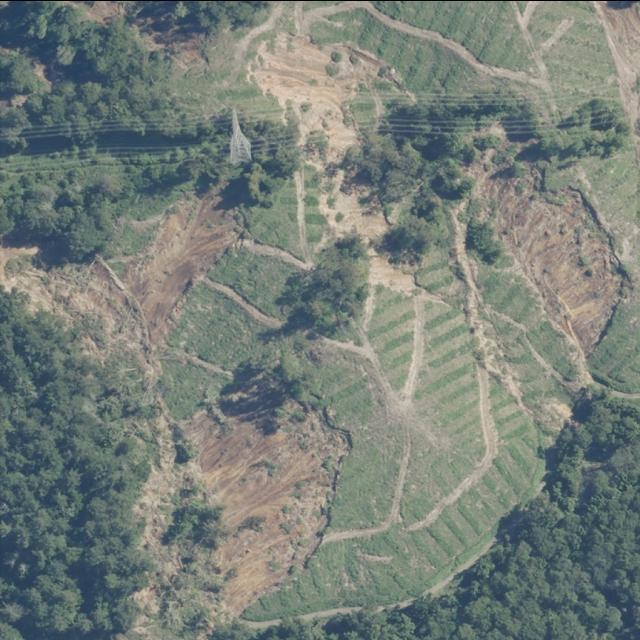landslide: (0, 183, 351, 640), (475, 161, 624, 355), (317, 150, 442, 305), (249, 30, 385, 166)
